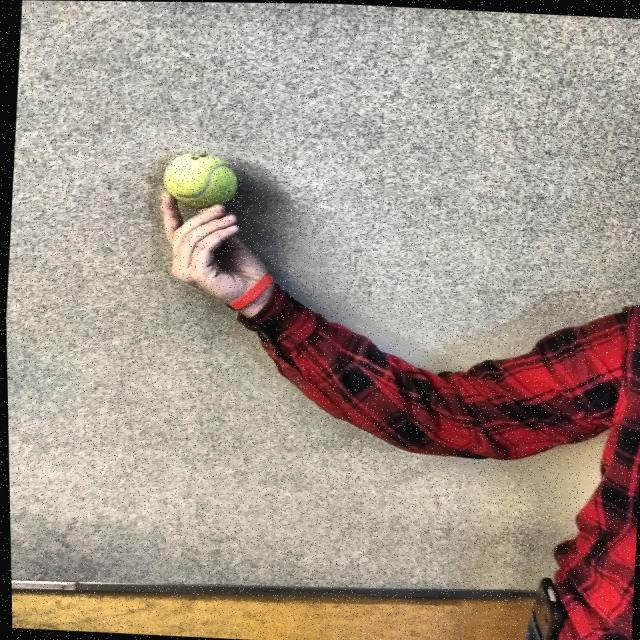tennis-ball: (154, 144, 248, 216)
